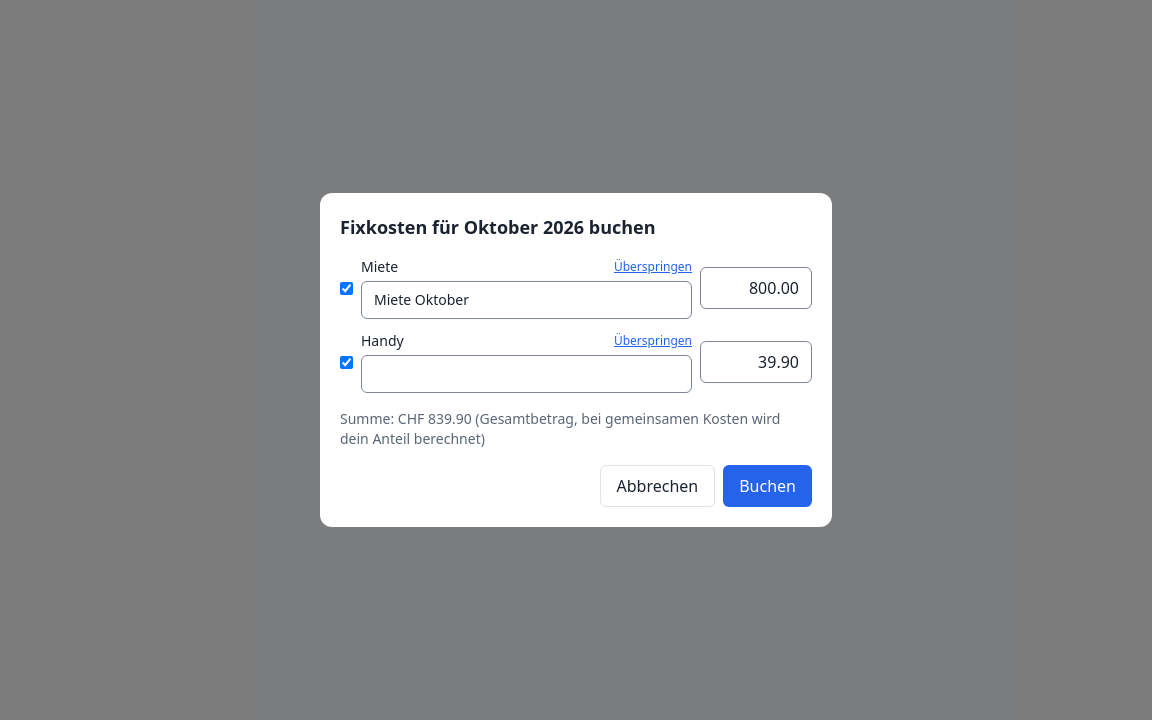
Test: BookTemplatesDialog › ungültiger Betrag «» wird gemeldet, nichts gebucht
Clear the field named "Betrag Handy" at {"x": 756, "y": 362}, box [700,341,812,383]
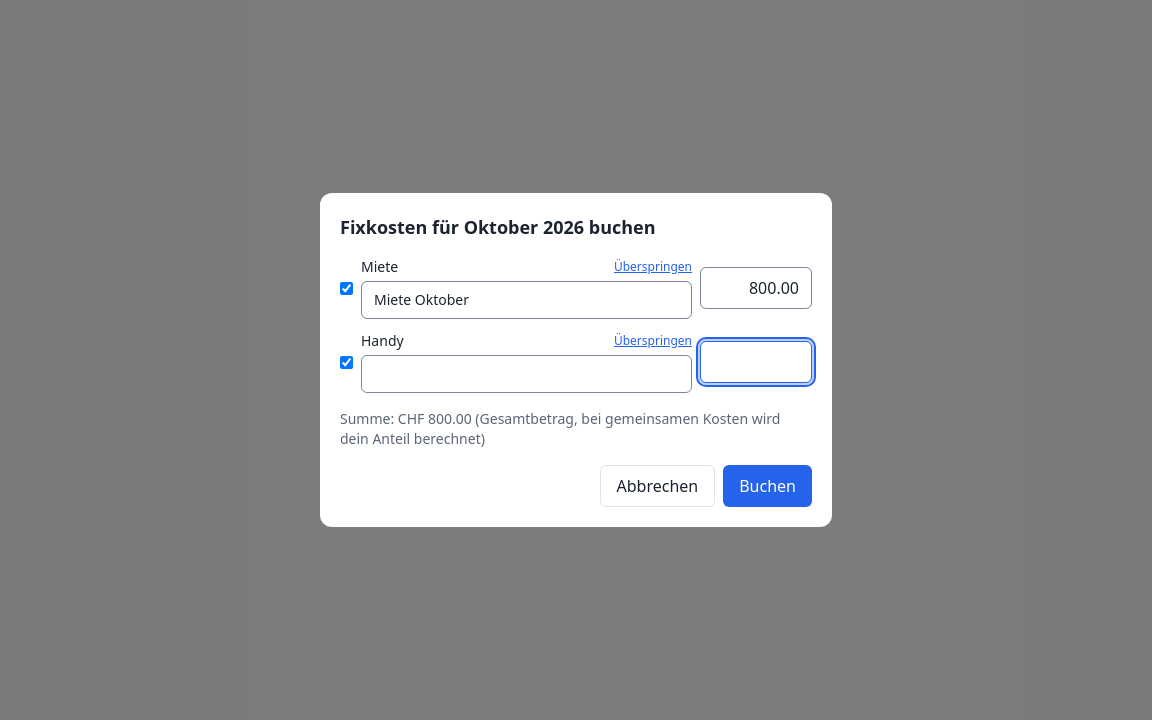
Click the button "Buchen" at {"x": 768, "y": 486}, box [723,465,812,507]
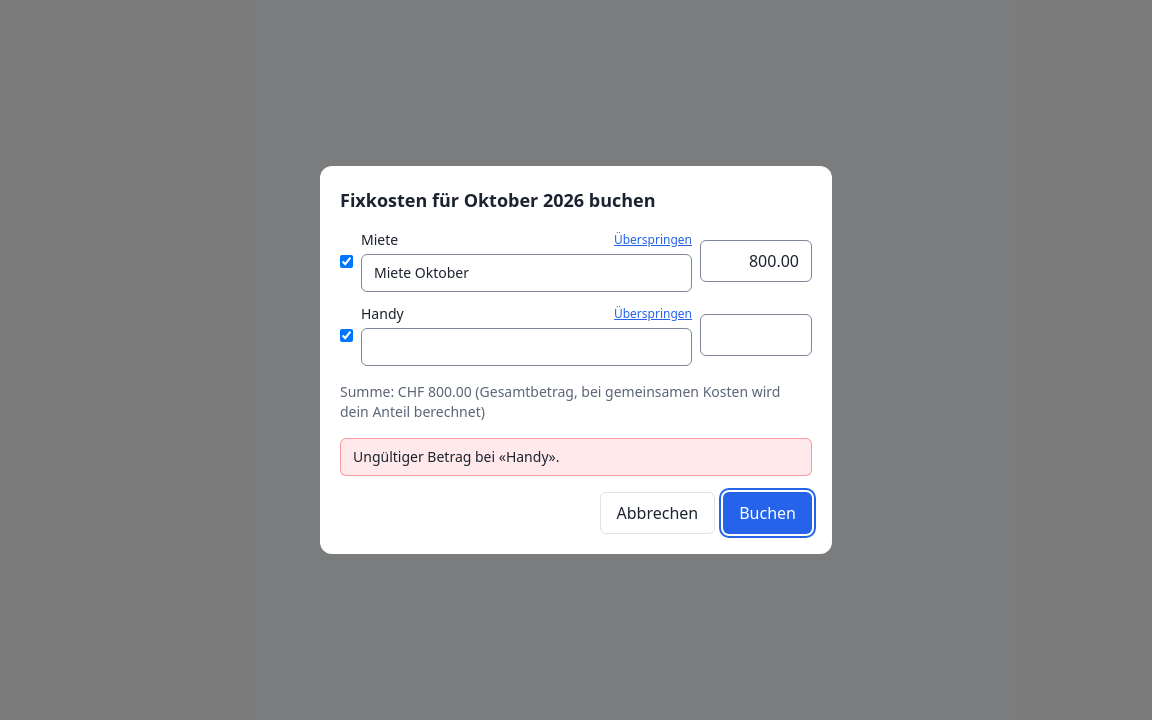
Expected: the message shows "Ungültiger Betrag bei «Handy»", [353,447,559,466]
